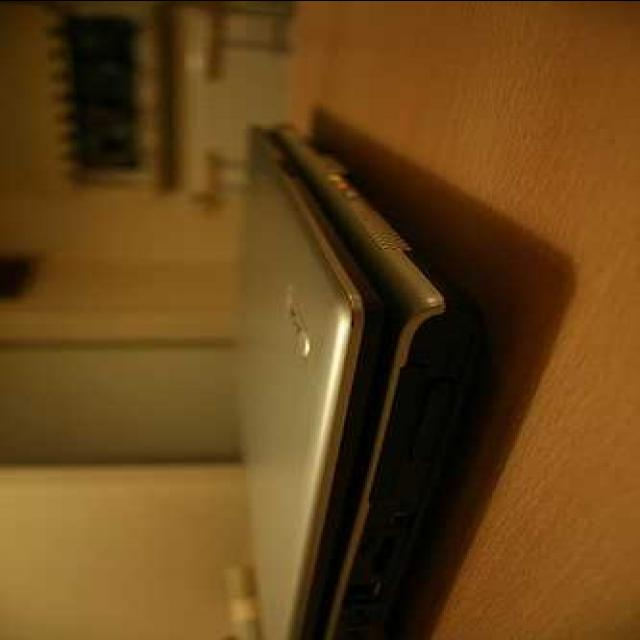laptop: (236, 125, 478, 605)
